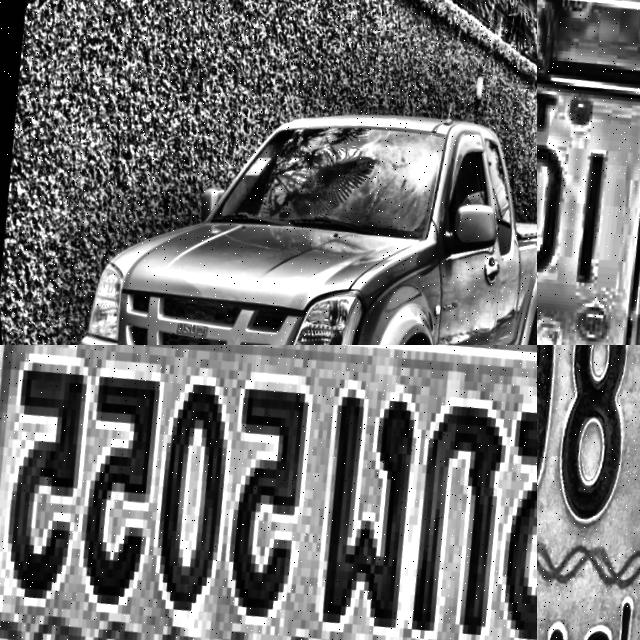license-plate: (0, 345, 537, 640), (537, 0, 640, 345), (537, 345, 640, 640)
